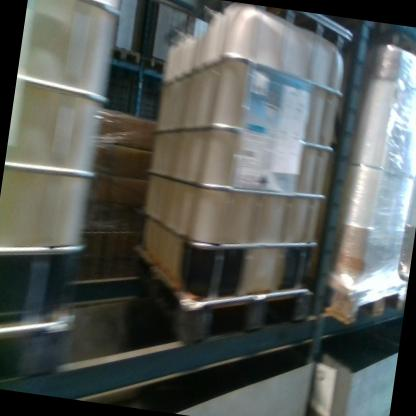pallet: (321, 276, 405, 332), (109, 45, 142, 65), (139, 53, 166, 73)
